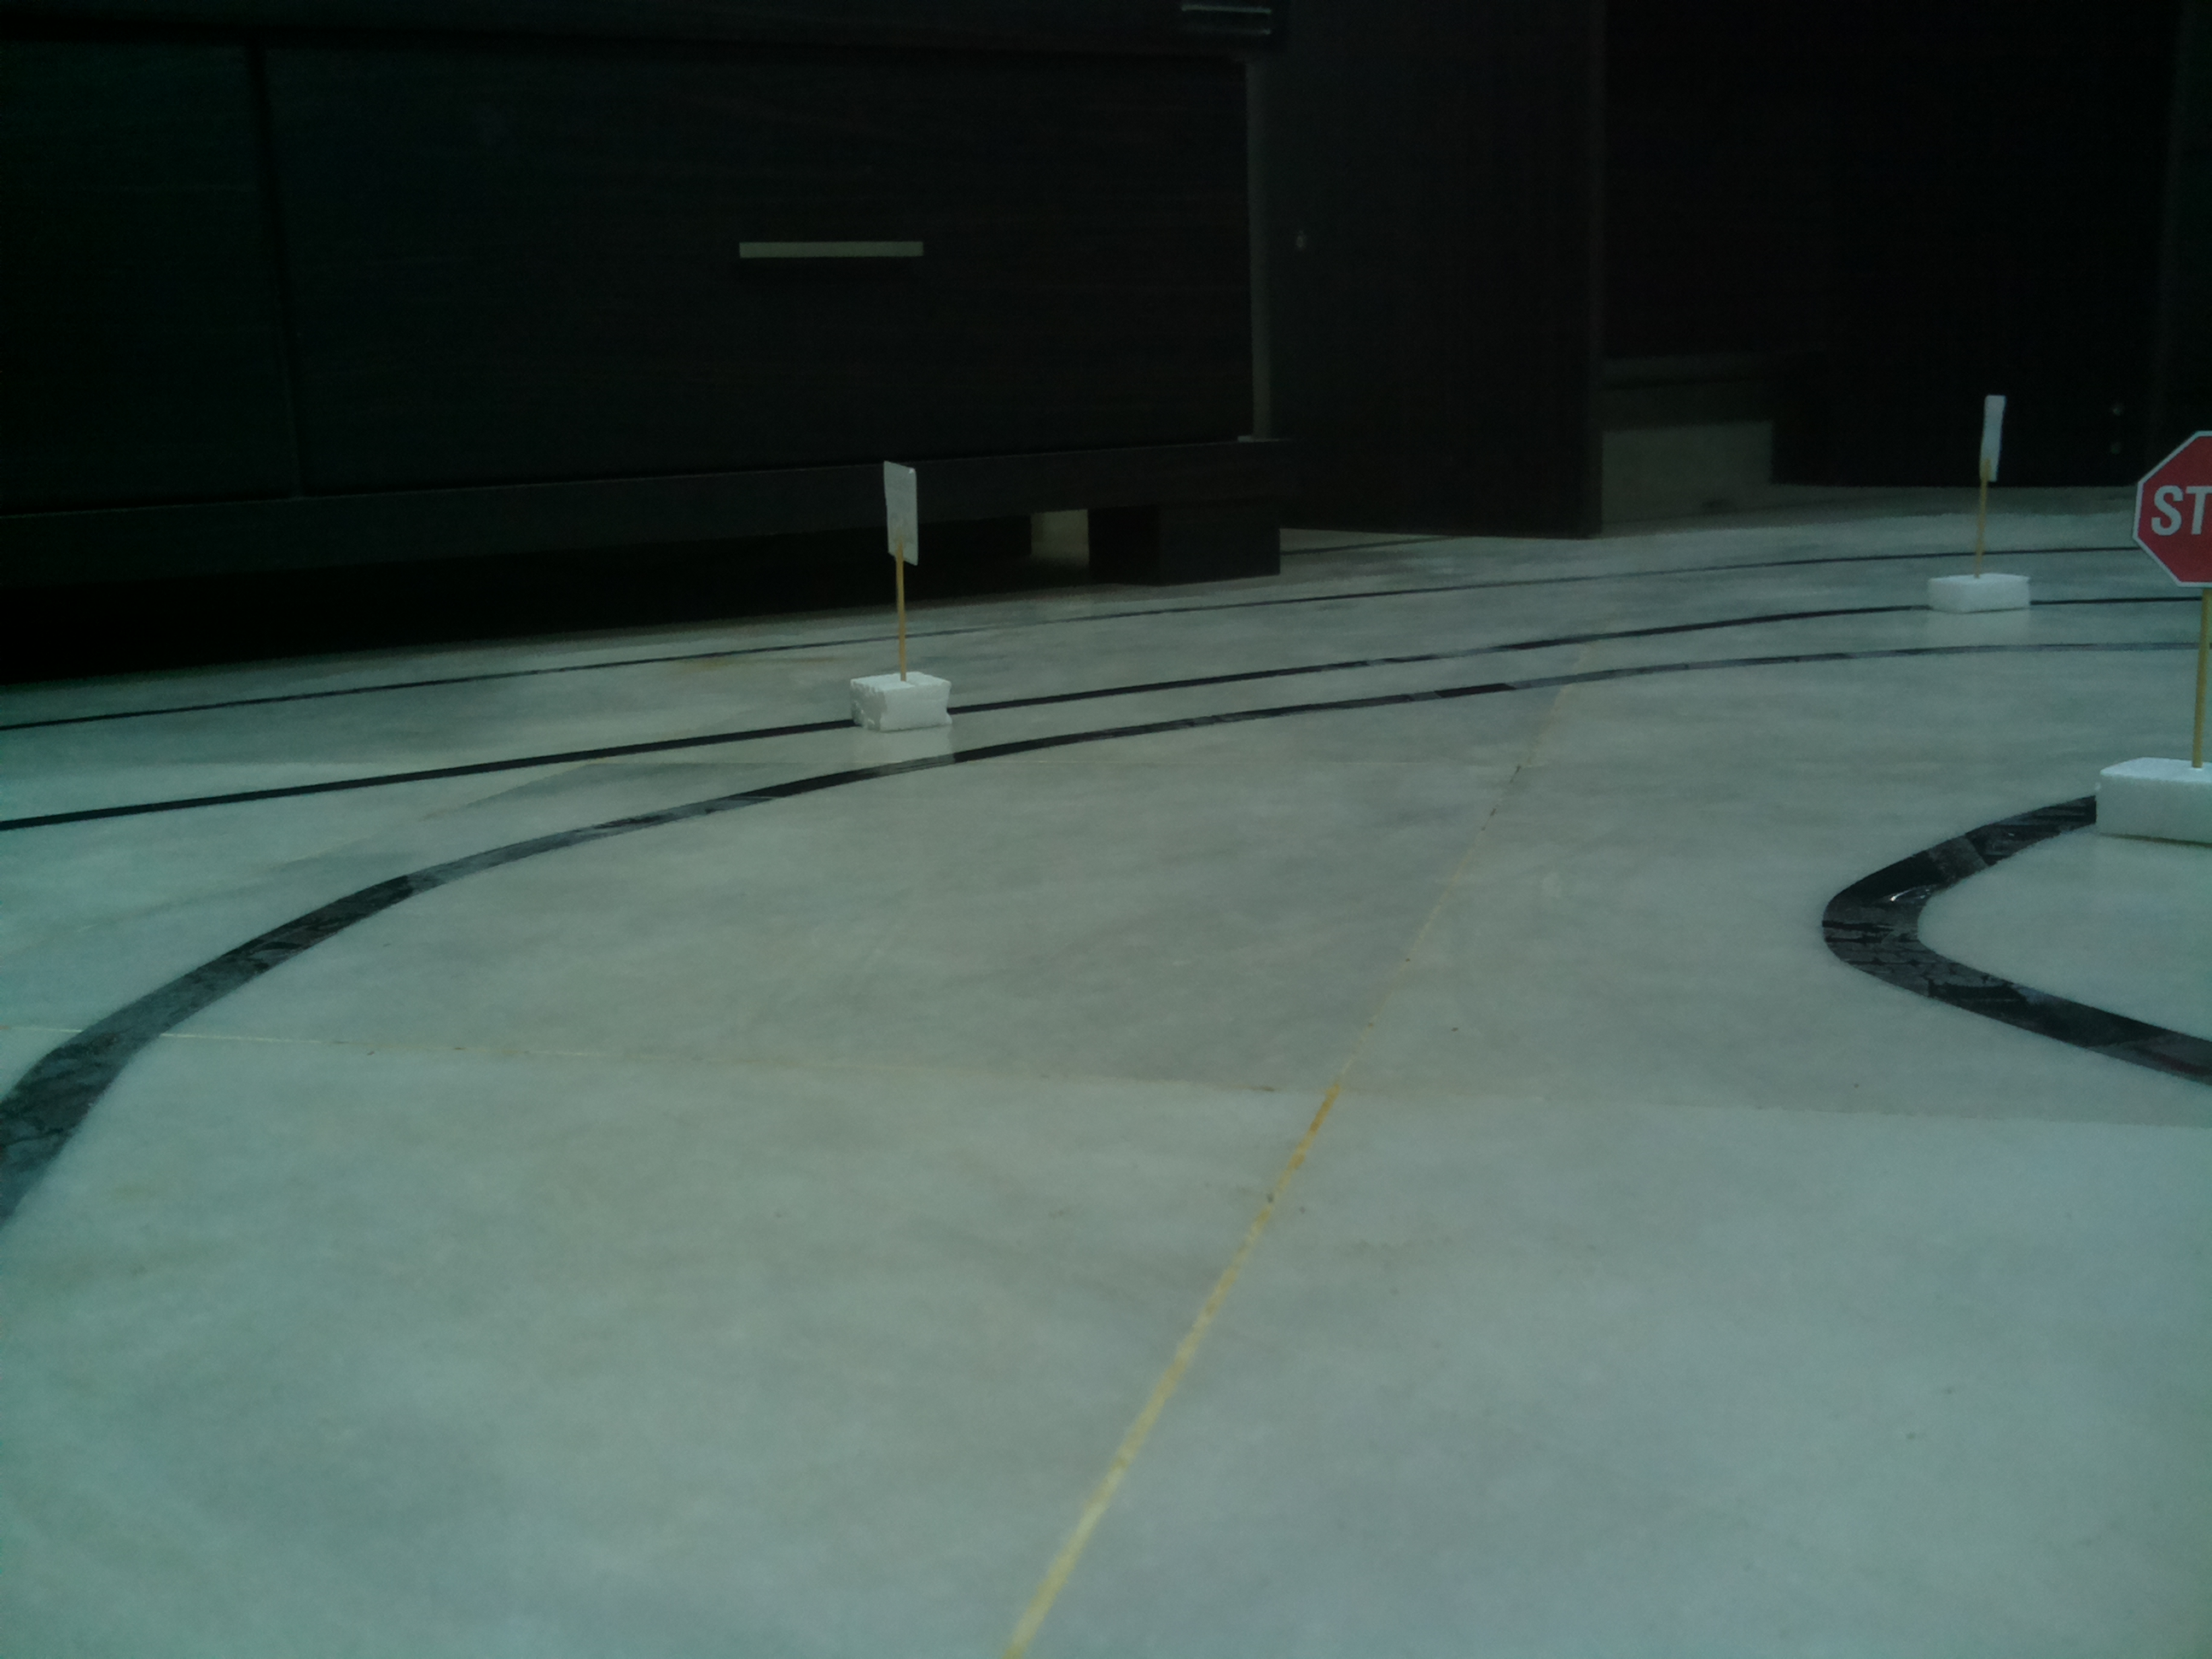Stop sign: (2127, 422, 2212, 594)
